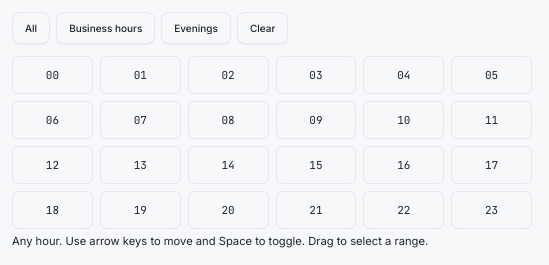
selects a contiguous dragged range
Press the mouse on the button named "02:00" at (228, 75), box [188, 56, 268, 94]
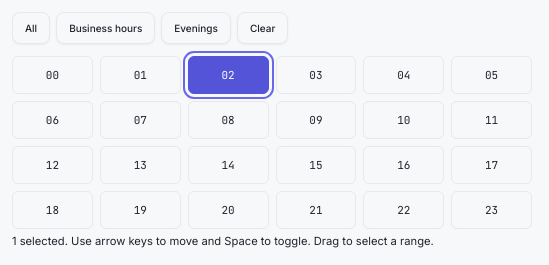
Hover over the button named "05:00".
mouse_move(492, 75)  # box [451, 56, 532, 94]
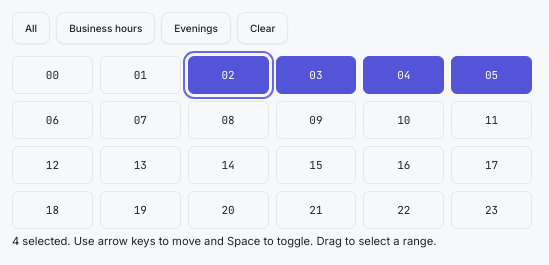
Expected: the button named "02:00" is pressed, [188, 56, 268, 94]
Expected: the button named "05:00" is pressed, [451, 56, 532, 94]
